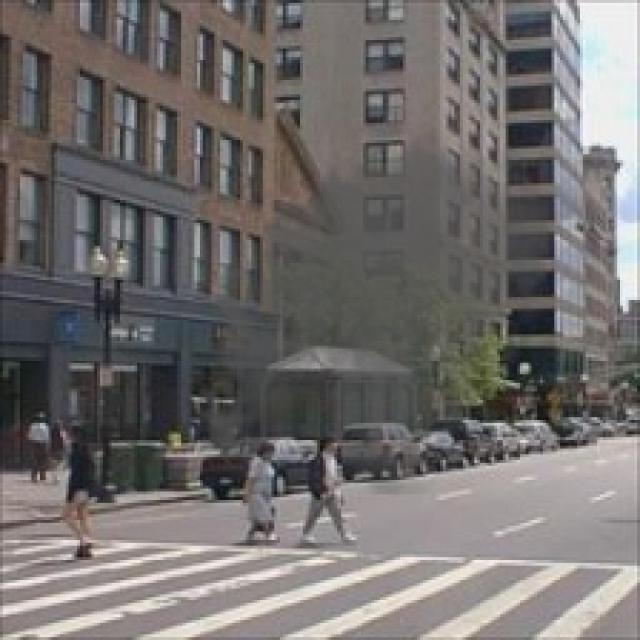smoke: (189, 114, 560, 494)
